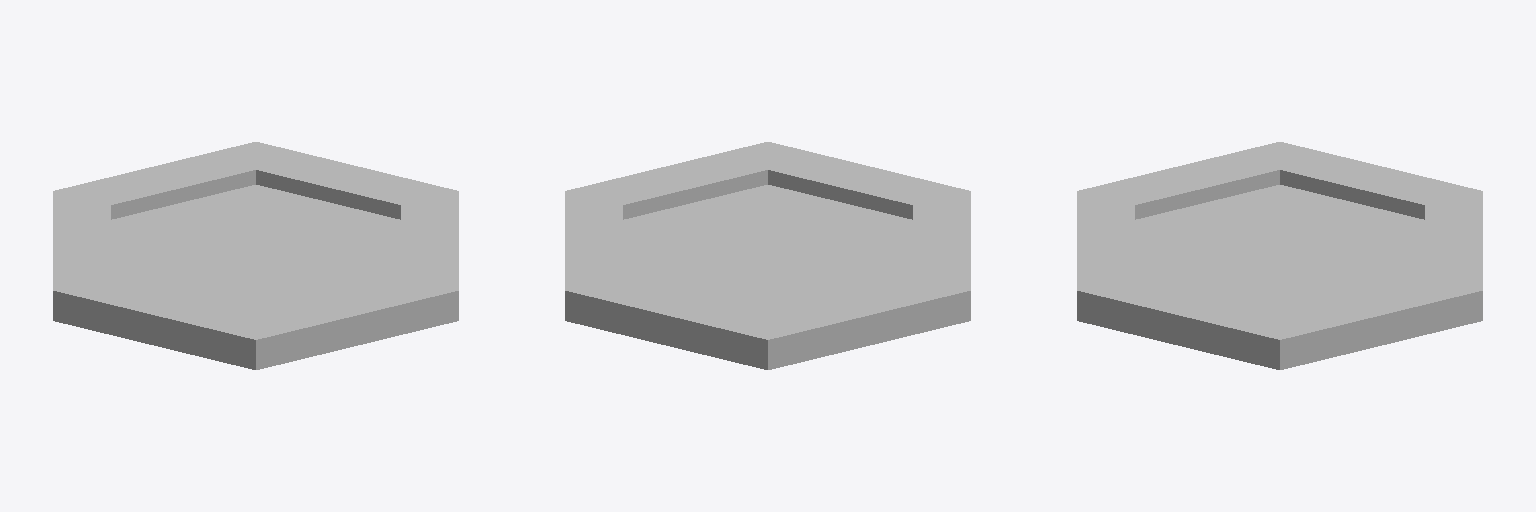
File: scanner.obj
3 renders of one model, left to right at view 1: azimuth 30°, elevation 25°; view 2: azimuth 150°, elevation 25°; view 3: azimuth 270°, elevation 25°, orthographic.
Parts seen in each view (by area): view 1: scanner, screen; view 2: scanner, screen; view 3: scanner, screen.
Part boxes in pixels (x1,y1,x2,y2): scanner: (53,142,458,369); screen: (111,185,400,311); scanner: (565,142,970,369); screen: (623,185,912,311); scanner: (1077,142,1482,369); screen: (1135,185,1424,311).
Size of the model in its own units: 2.8 by 0.2 by 2.42.